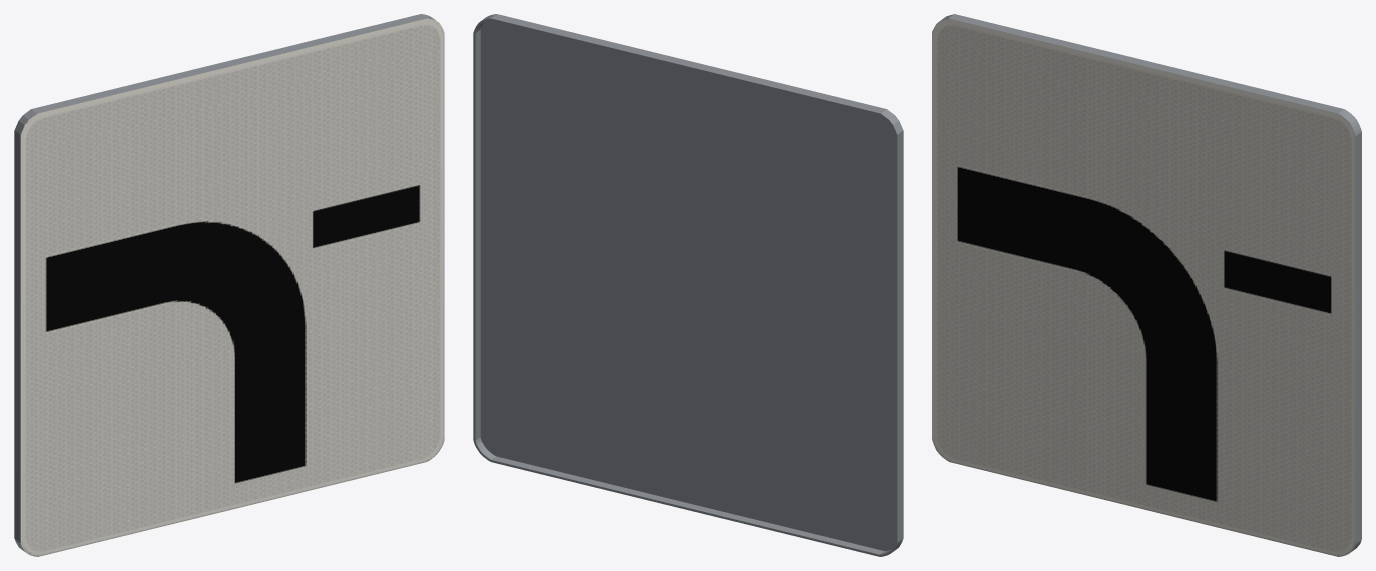
3 renders of one model, left to right at view 1: azimuth 30°, elevation 25°; view 2: azimuth 150°, elevation 25°; view 3: azimuth 330°, elevation 25°, orthographic.
Parts seen in each view (by area): view 1: cat_a14af417104d4be7; view 2: cat_a14af417104d4be7; view 3: cat_a14af417104d4be7.
Boxes of the visible parts, left/top/right/bottom form: cat_a14af417104d4be7: left=14, top=14, right=444, bottom=556; cat_a14af417104d4be7: left=473, top=14, right=903, bottom=556; cat_a14af417104d4be7: left=932, top=14, right=1361, bottom=556.
Bounding box in the file's own units: 0.6 × 0.015 × 0.6.
2 materials, 1 textured.
